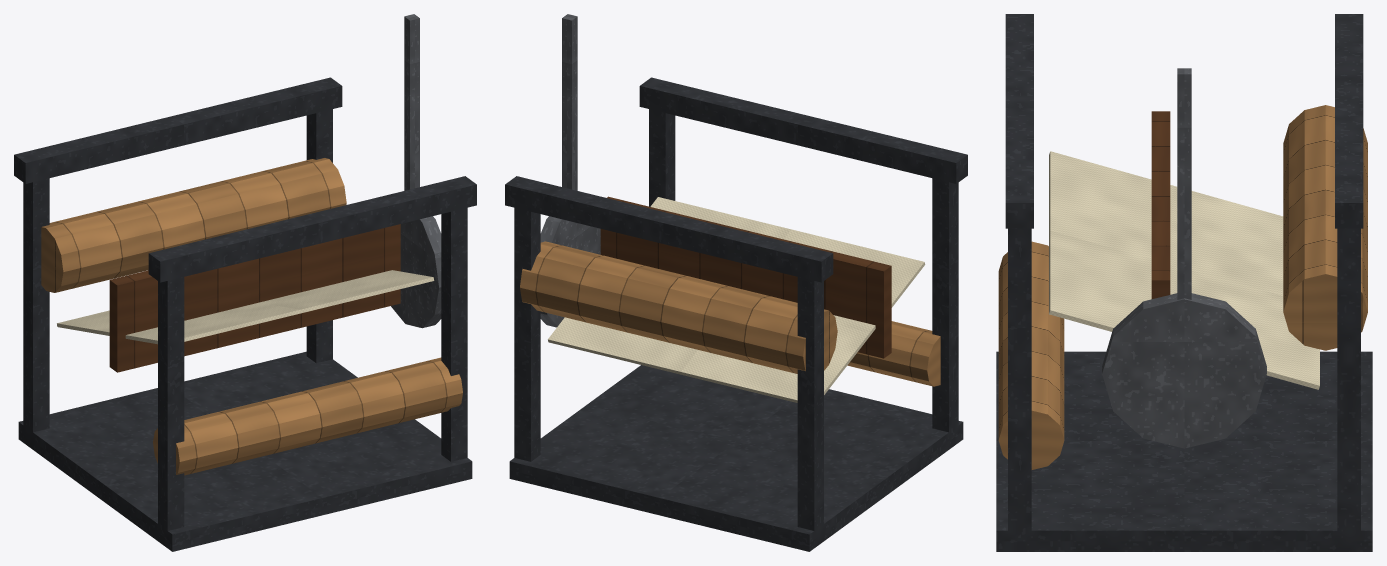
File: krosno.glb
3 renders of one model, left to right at view 1: azimuth 30°, elevation 25°; view 2: azimuth 150°, elevation 25°; view 3: azimuth 270°, elevation 25°, orthographic. The views are drawn at different scales.
Parts seen in each view (by area): view 1: krosno; view 2: krosno; view 3: krosno.
Boxes of the visible parts, bbox=[...] form: krosno: bbox=[14, 14, 476, 551]; krosno: bbox=[505, 14, 967, 551]; krosno: bbox=[996, 14, 1372, 551].
Bounding box in the file's own units: 1.99 × 2.3 × 1.6.
Materials: 5 (5 with a texture image).
